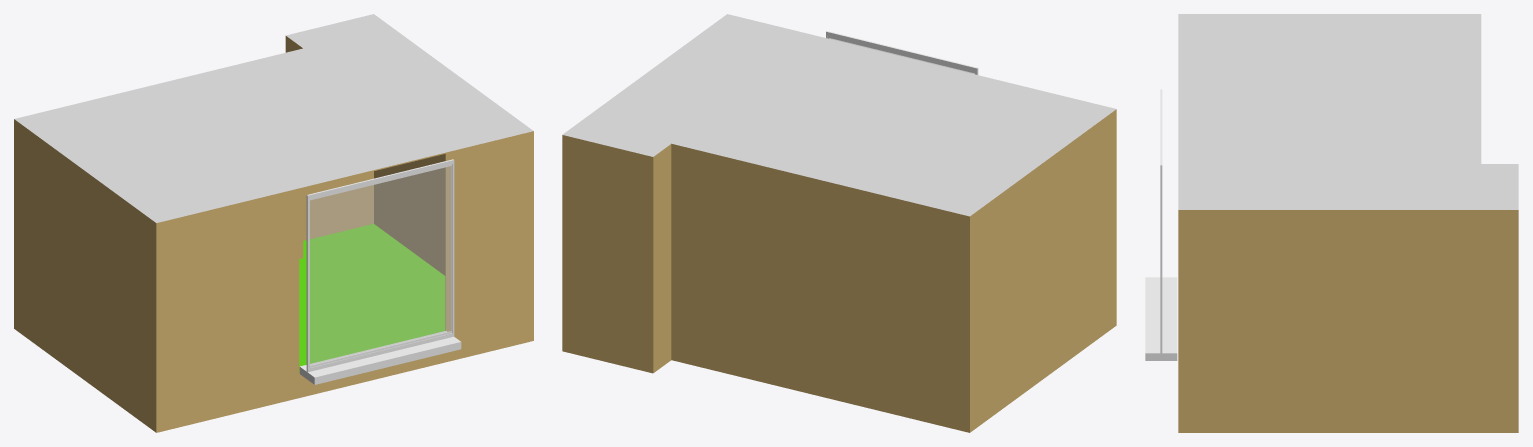
File: Bedroom_3.glb
3 renders of one model, left to right at view 1: azimuth 30°, elevation 25°; view 2: azimuth 150°, elevation 25°; view 3: azimuth 270°, elevation 25°, orthographic. The views are drawn at different scales.
Visible parts, largest first — view 1: Room_Bedroom3, Bedroom3_Pattio_Window_South; view 2: Room_Bedroom3, Bedroom3_Pattio_Window_South; view 3: Room_Bedroom3, Bedroom3_Pattio_Window_South.
Part boxes in pixels (x1,y1,x2,y2): Room_Bedroom3: [14, 14, 533, 432]; Bedroom3_Pattio_Window_South: [299, 159, 461, 384]; Room_Bedroom3: [562, 14, 1116, 432]; Bedroom3_Pattio_Window_South: [826, 31, 978, 74]; Room_Bedroom3: [1178, 14, 1518, 432]; Bedroom3_Pattio_Window_South: [1145, 89, 1177, 360].
Size of the model in its own units: 4.6 by 2.45 by 3.71.
